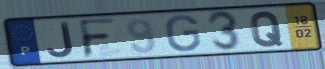3: (206, 9, 243, 54)
9: (125, 17, 158, 55)
F: (76, 17, 119, 60)
G: (164, 14, 203, 53)
J: (45, 21, 76, 59)
Q: (248, 10, 285, 48)
